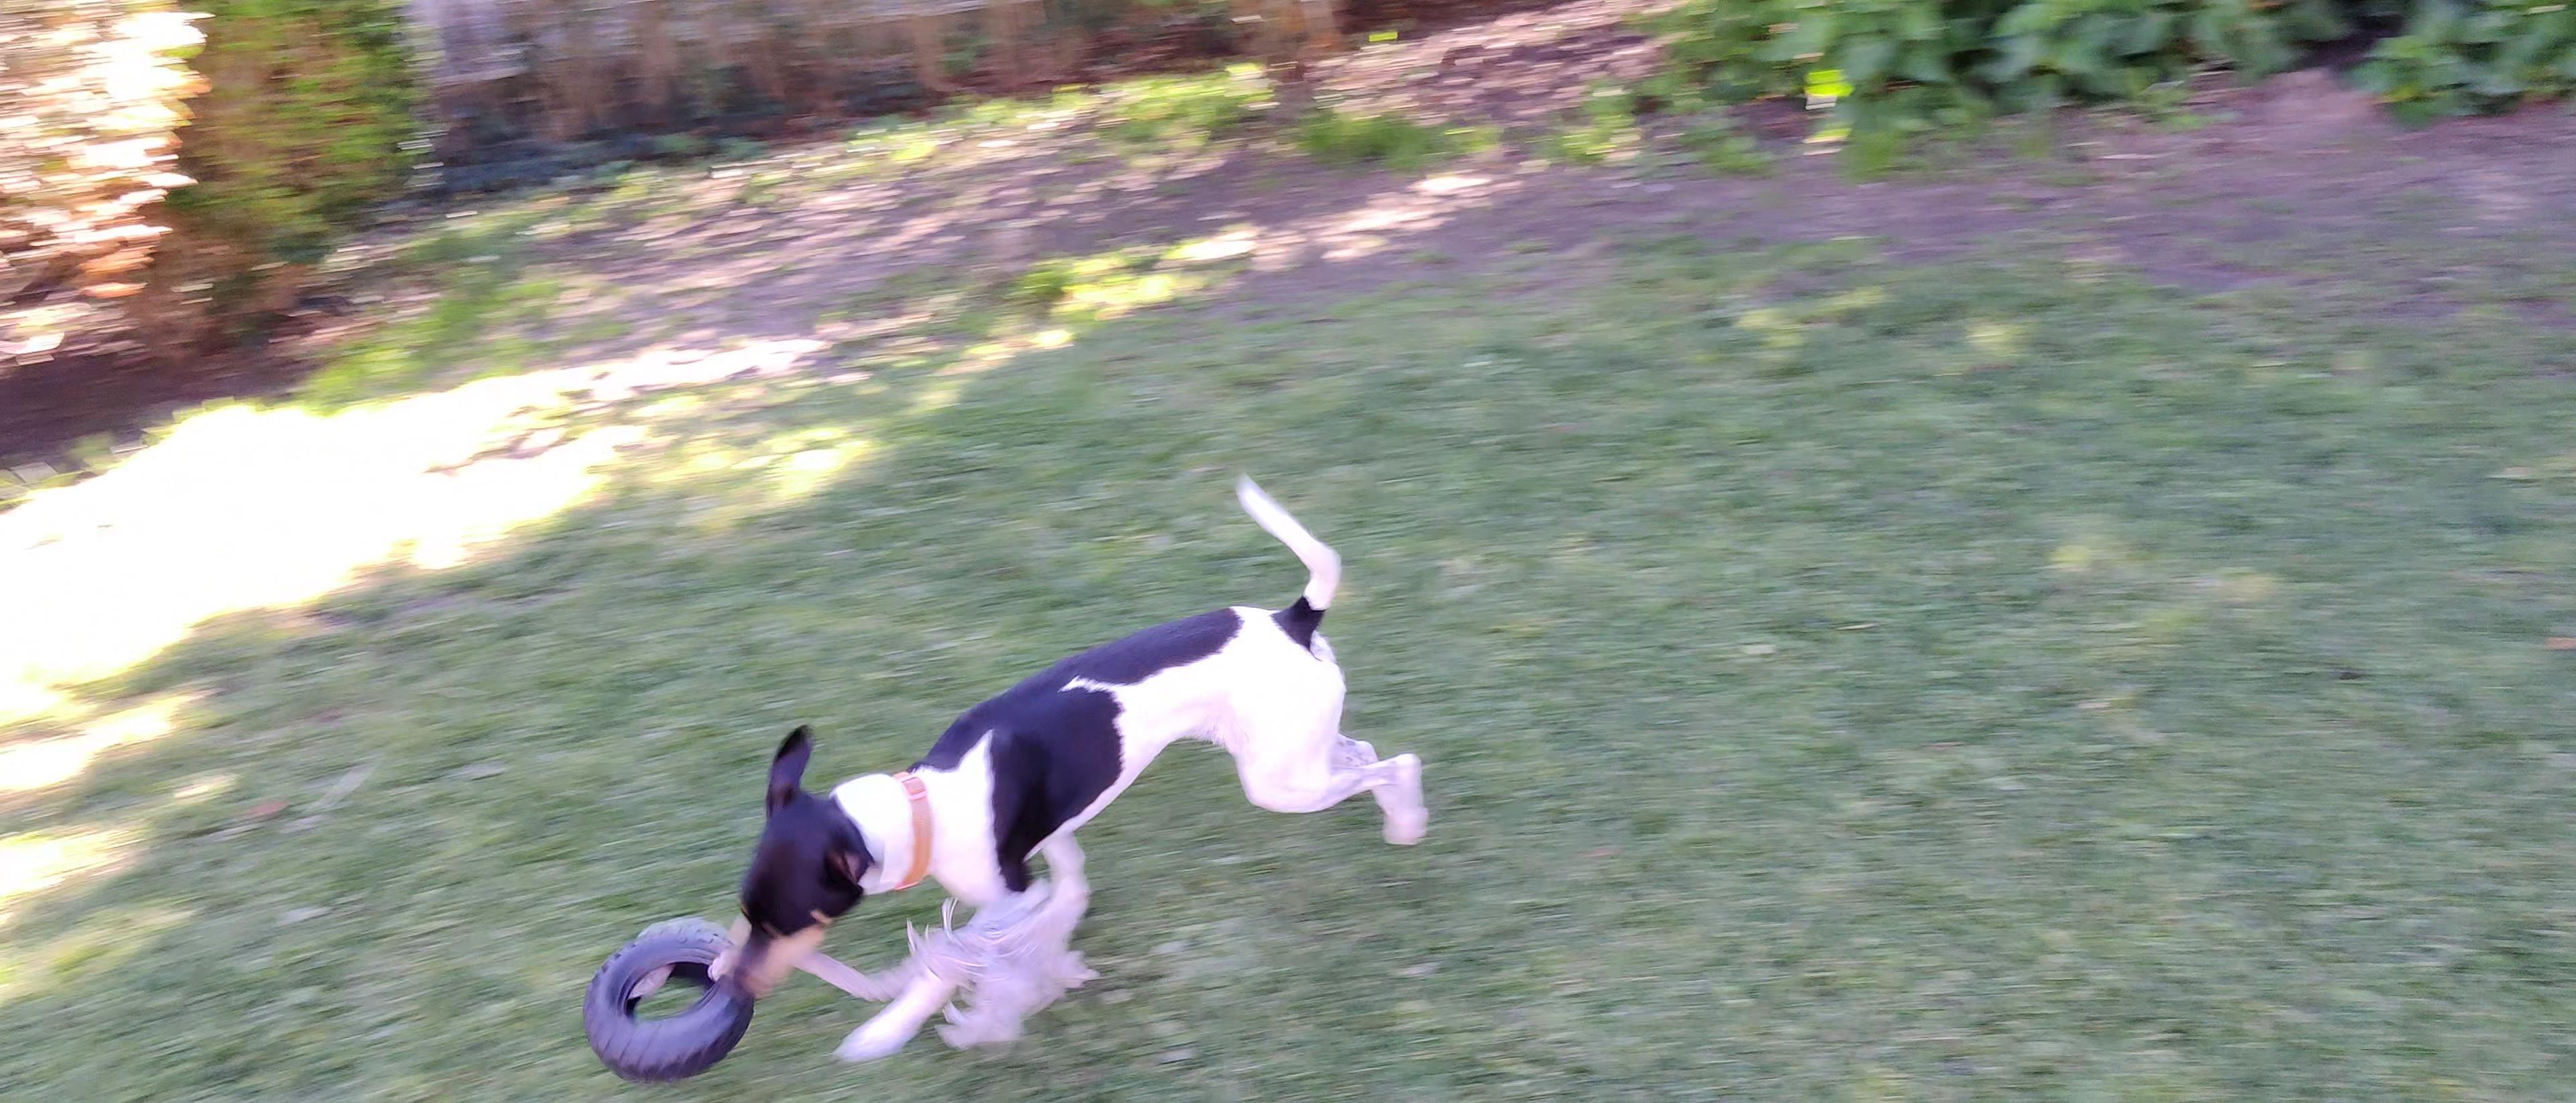Dog: (677, 470, 1424, 1072)
